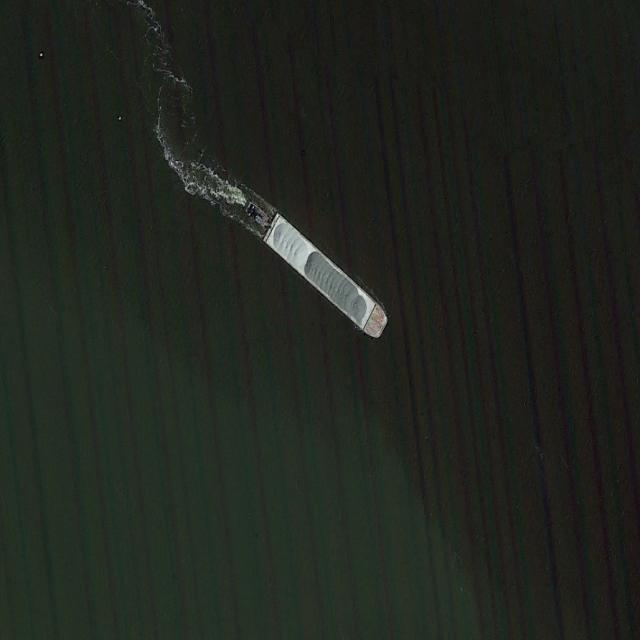Other Ship: (261, 211, 391, 343)
